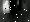person: (4, 1, 11, 14), (18, 2, 22, 15)
